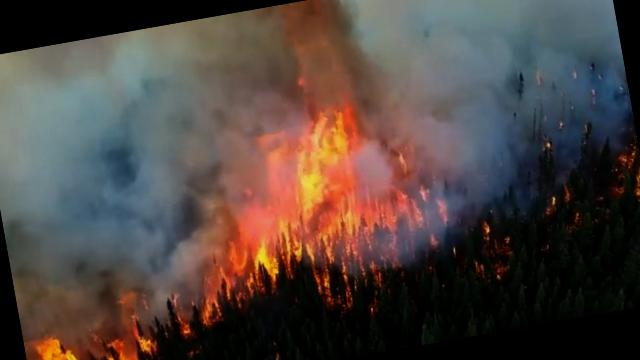fire: (141, 82, 491, 338), (95, 311, 162, 360), (24, 336, 94, 360)
smoke: (0, 17, 290, 339), (389, 0, 640, 237)
